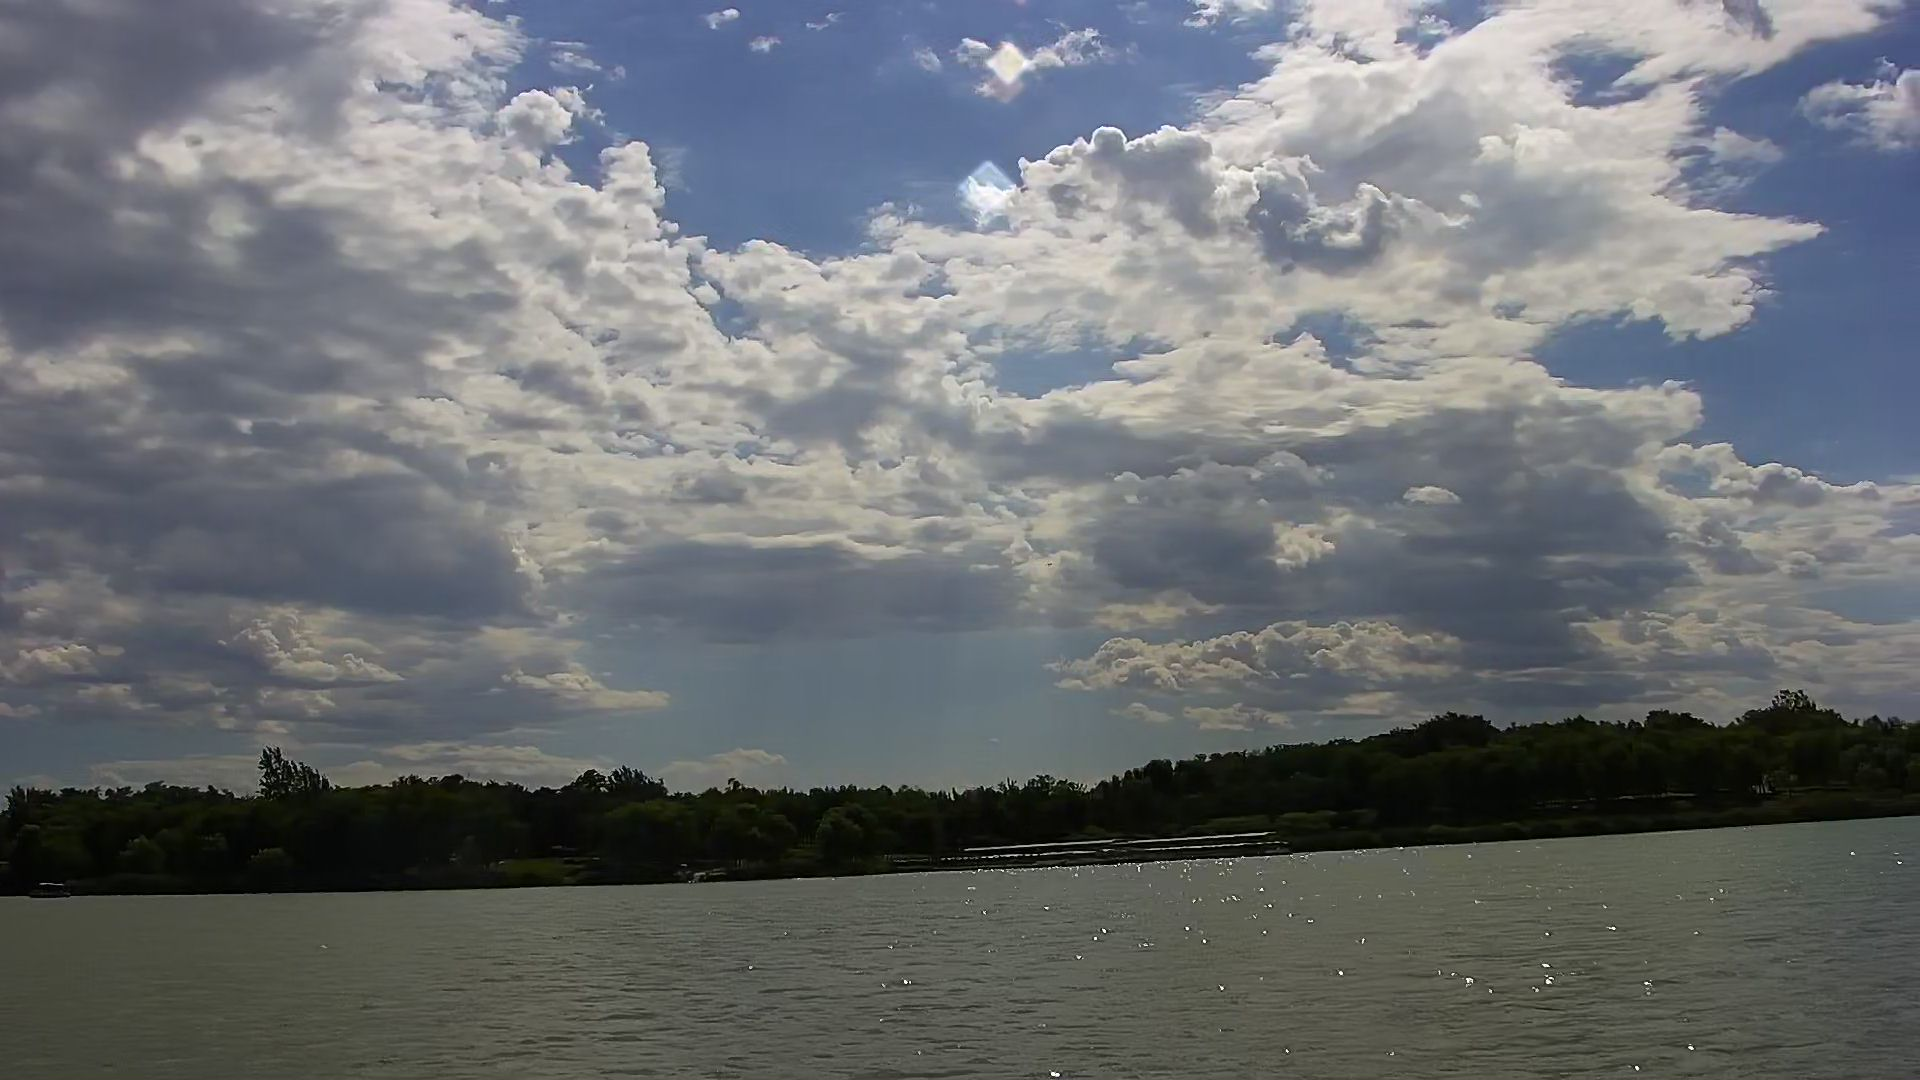harbor: (957, 829, 1291, 866)
